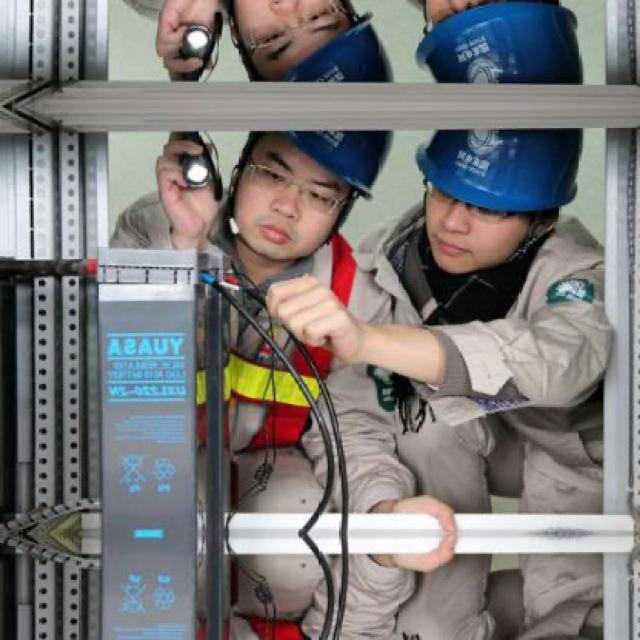helmet: (396, 115, 590, 284), (197, 120, 381, 270), (394, 0, 589, 99), (196, 0, 382, 94)
